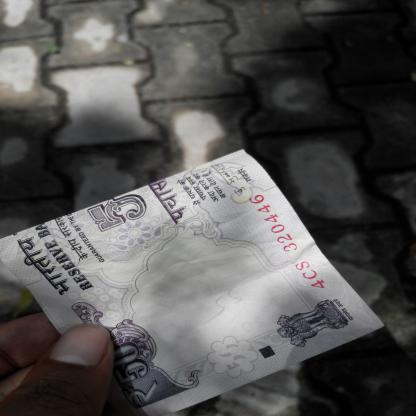Old50Front: (0, 150, 384, 416)
